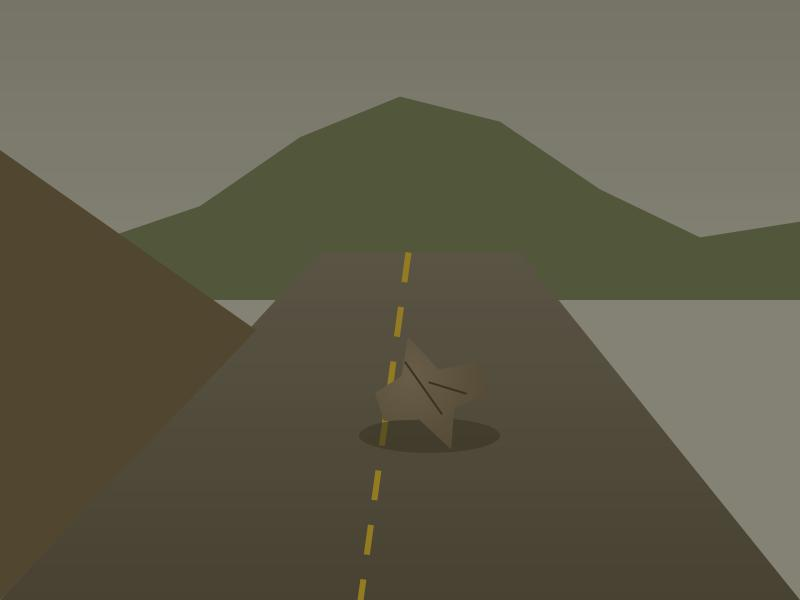ROAD_OBSTACLE: (369, 342, 490, 444)
